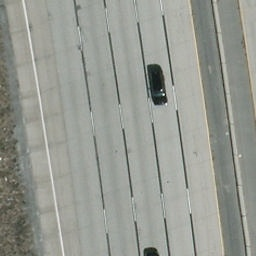car: (146, 61, 172, 107)
